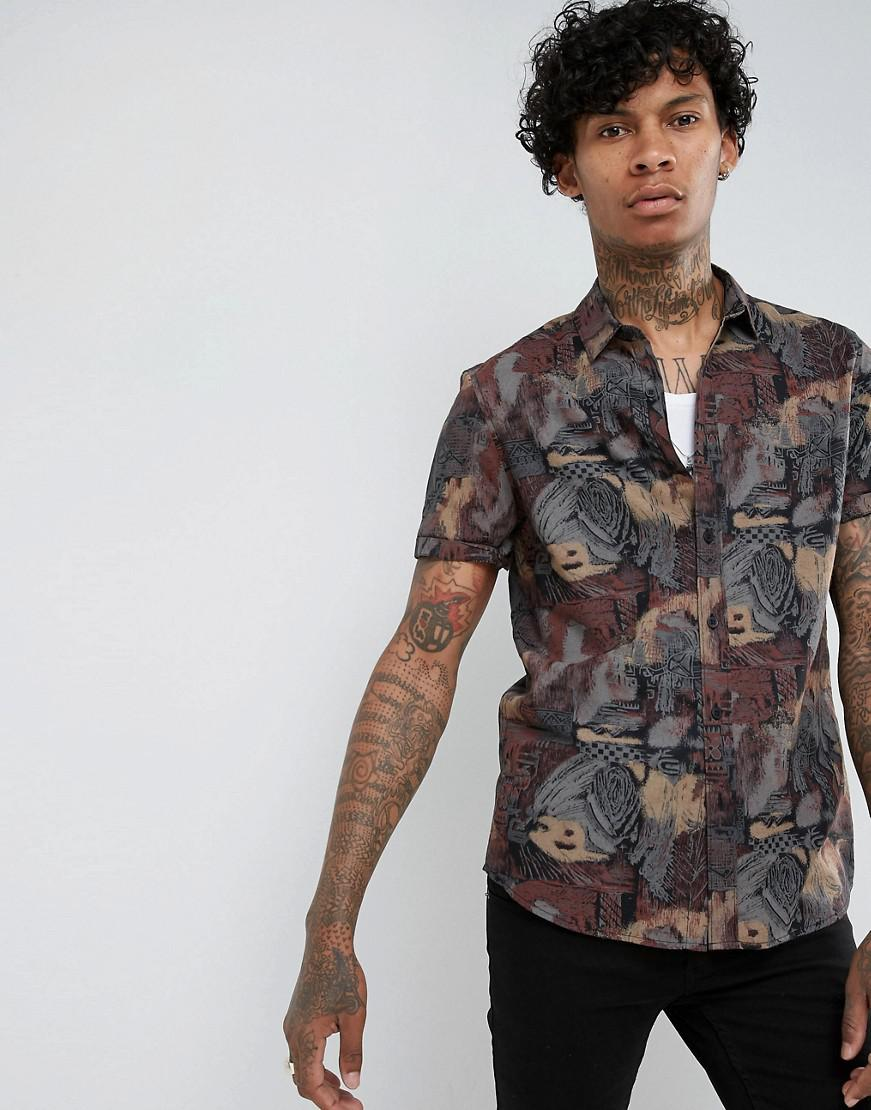teeshirt: (401, 295, 871, 955)
